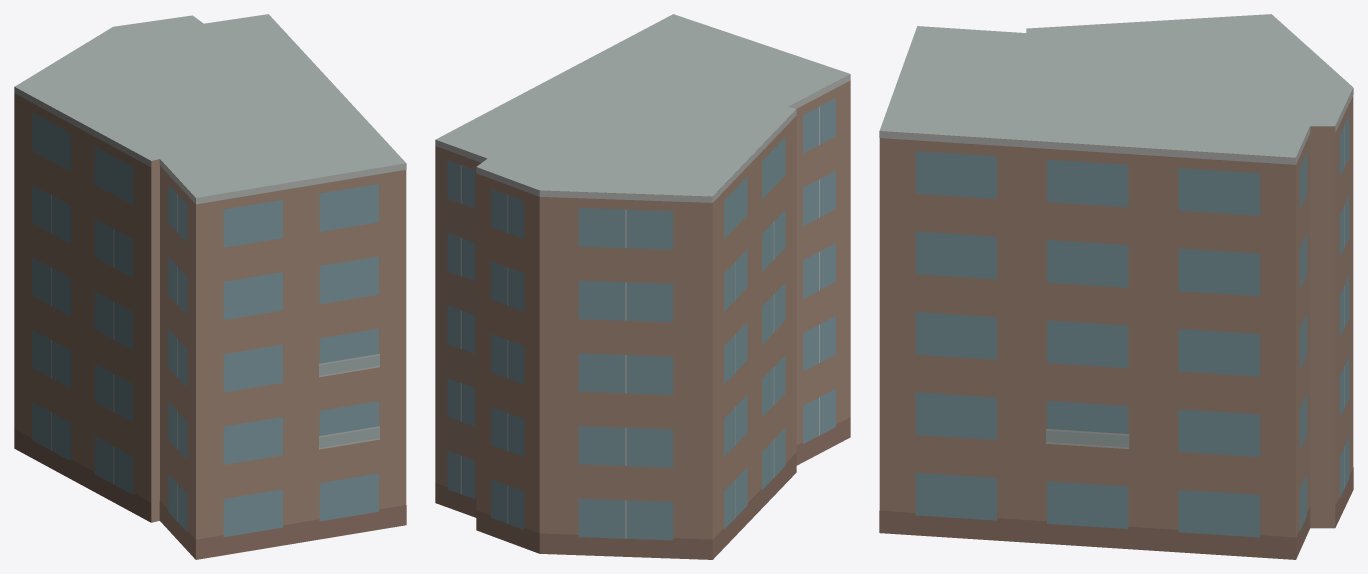
File: survey-upis-33026184.glb
3 renders of one model, left to right at view 1: azimuth 30°, elevation 25°; view 2: azimuth 150°, elevation 25°; view 3: azimuth 270°, elevation 25°, orthographic. The views are drawn at different scales.
Parts seen in each view (by area): view 1: survey-upis-33026184.tmp; view 2: survey-upis-33026184.tmp; view 3: survey-upis-33026184.tmp.
Part boxes in pixels (bbox=[...]): survey-upis-33026184.tmp: bbox=[14, 14, 406, 559]; survey-upis-33026184.tmp: bbox=[435, 14, 850, 559]; survey-upis-33026184.tmp: bbox=[879, 14, 1353, 559].
Size of the model in its own units: 10.63 by 13.85 by 14.81.
